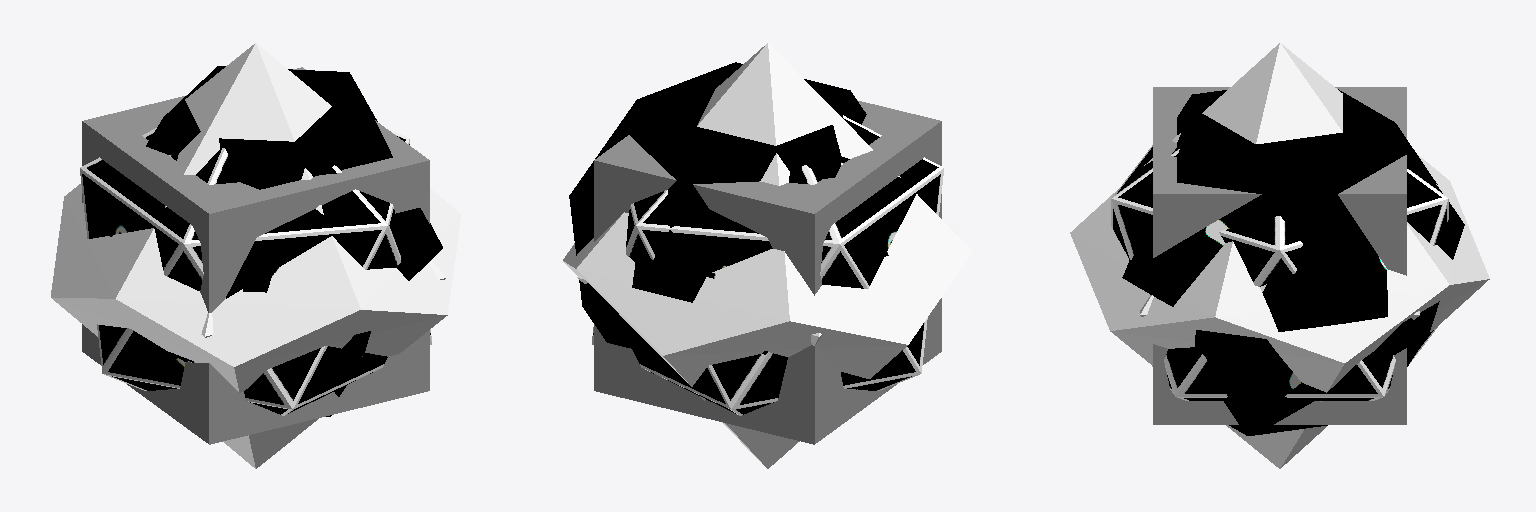
The picture shows the model from 3 angles: view 1: azimuth 30°, elevation 25°; view 2: azimuth 150°, elevation 25°; view 3: azimuth 270°, elevation 25°; orthographic projection.
Visible parts, largest first — view 1: d10, d6, d20, d12; view 2: d10, d6, d20, d12; view 3: d12, d10, d6, d20.
Part boxes in pixels (x1,y1,x2,y2): d10: (51,43,460,468); d6: (82,67,429,444); d20: (80,128,431,415); d12: (146,66,442,416); d10: (563,43,972,468); d6: (594,100,941,444); d20: (592,115,943,415); d12: (569,62,866,354); d12: (1122,89,1464,435); d10: (1070,43,1489,468); d6: (1153,87,1406,424); d20: (1111,145,1448,400).
Size of the model in its own units: 1.57 by 1.85 by 1.65.
Materials: 5 (4 with a texture image).